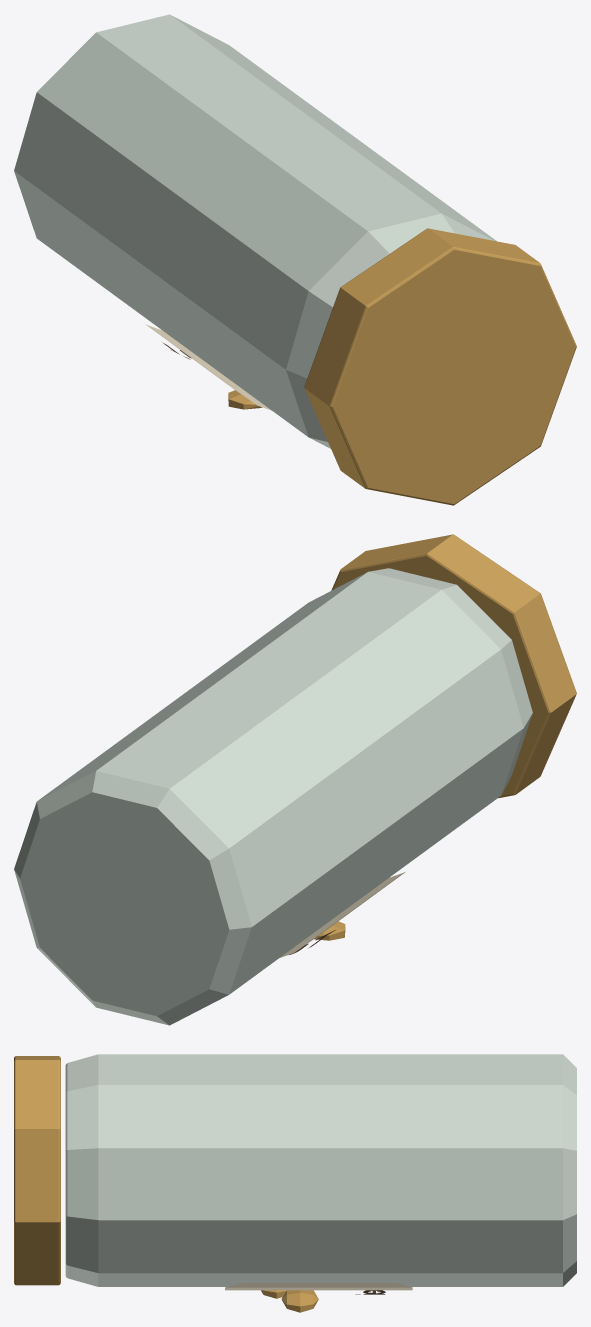
The model's file is turmeric.glb.
3 views of the same model, one above another, from view 1: azimuth 30°, elevation 25°; view 2: azimuth 150°, elevation 25°; view 3: azimuth 270°, elevation 25° (orthographic). The views are drawn at different scales.
Visible parts, largest first — view 1: turmeric; view 2: turmeric; view 3: turmeric.
Part boxes in pixels (<box>): turmeric: <box>14,14,576,505</box>; turmeric: <box>14,534,576,1025</box>; turmeric: <box>14,1054,576,1312</box>.
Bounding box in the file's own units: 0.052 × 0.0545 × 0.12.
